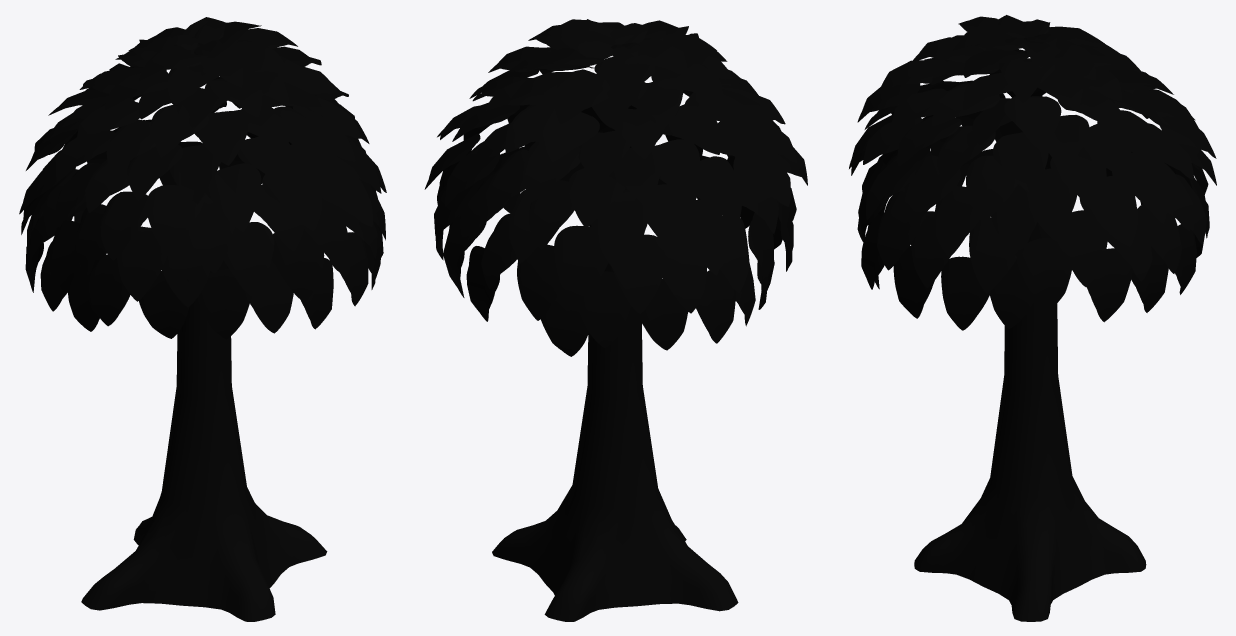
The model's file is Tree_2c.fbx.
3 renders of one model, left to right at view 1: azimuth 30°, elevation 25°; view 2: azimuth 150°, elevation 25°; view 3: azimuth 270°, elevation 25°, orthographic.
Visible parts, largest first — view 1: Tree_2c; view 2: Tree_2c; view 3: Tree_2c.
Boxes of the visible parts, x1,y1,x2,y2 form: Tree_2c: [19, 17, 386, 621]; Tree_2c: [424, 19, 807, 621]; Tree_2c: [849, 15, 1216, 621].
Bounding box in the file's own units: 51.64 × 81.06 × 51.67.
Materials: 1 (1 with a texture image).
